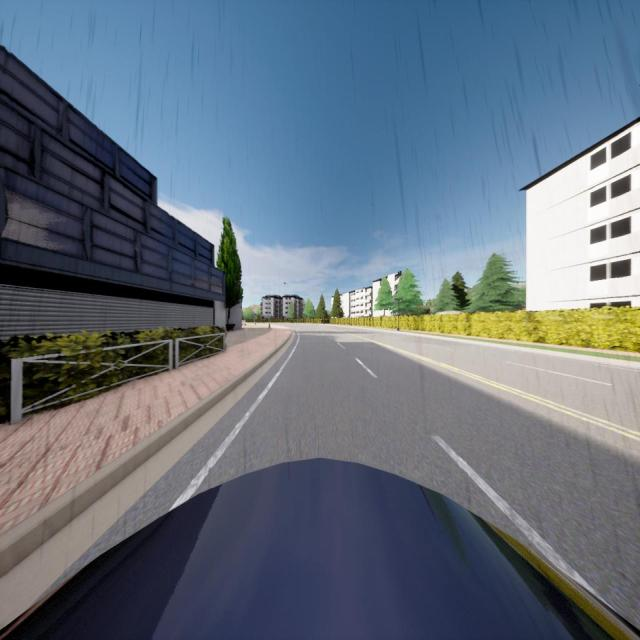Vehicle: (0, 455, 640, 640), (320, 315, 330, 324)
